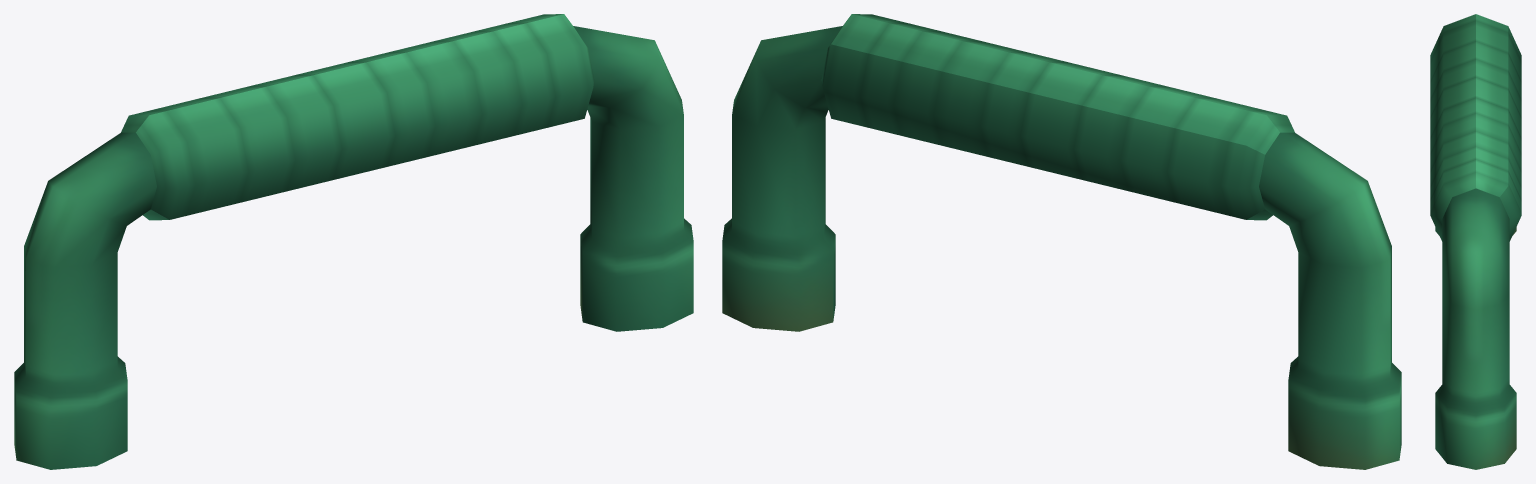
The model's file is handle_g.FBX.
3 renders of one model, left to right at view 1: azimuth 30°, elevation 25°; view 2: azimuth 150°, elevation 25°; view 3: azimuth 270°, elevation 25°, orthographic. The views are drawn at different scales.
Visible parts, largest first — view 1: Cylinder036; view 2: Cylinder036; view 3: Cylinder036.
Boxes of the visible parts, x1,y1,x2,y2 form: Cylinder036: (14, 14, 693, 469); Cylinder036: (722, 14, 1401, 469); Cylinder036: (1430, 14, 1521, 469).
Bounding box in the file's own units: 13.04 × 5.78 × 1.94.
